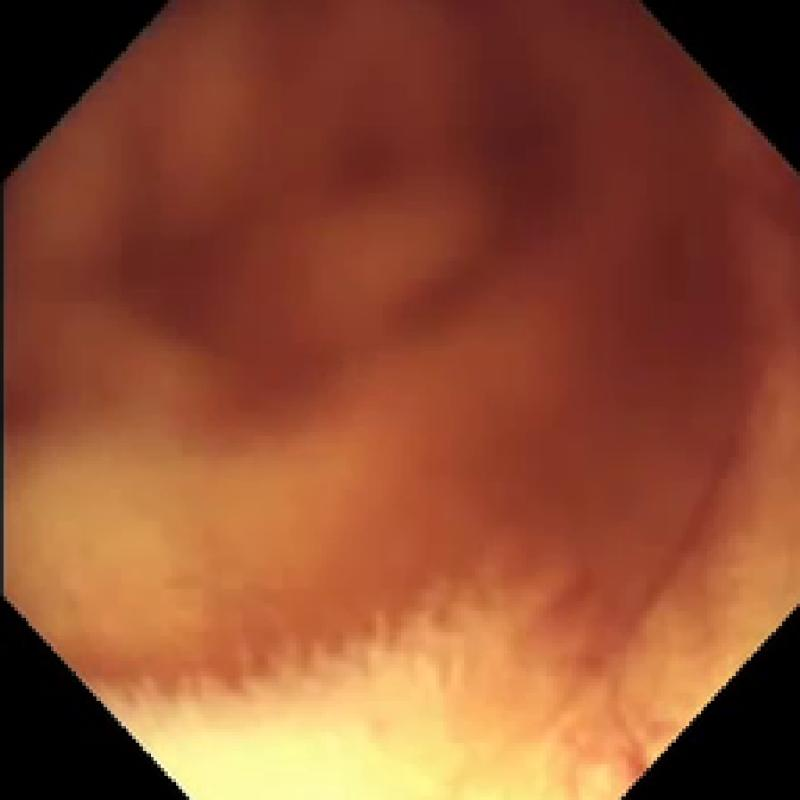bleeding: (114, 0, 800, 675)
